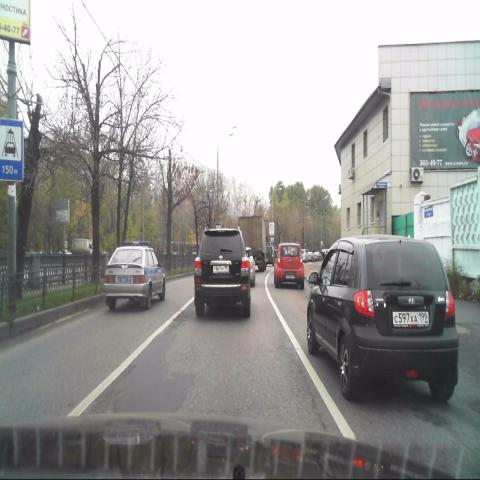7_5: (0, 118, 24, 180)
